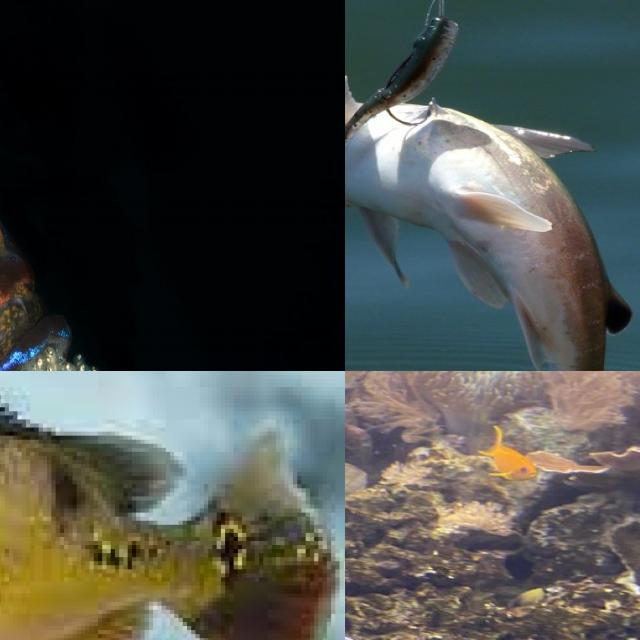fish: (0, 0, 345, 371), (345, 0, 634, 371), (0, 371, 339, 640)
